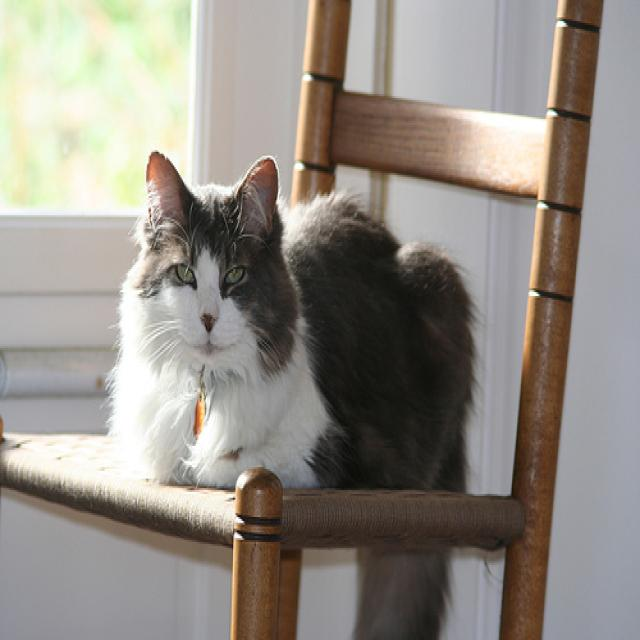left eye: (221, 260, 246, 286)
